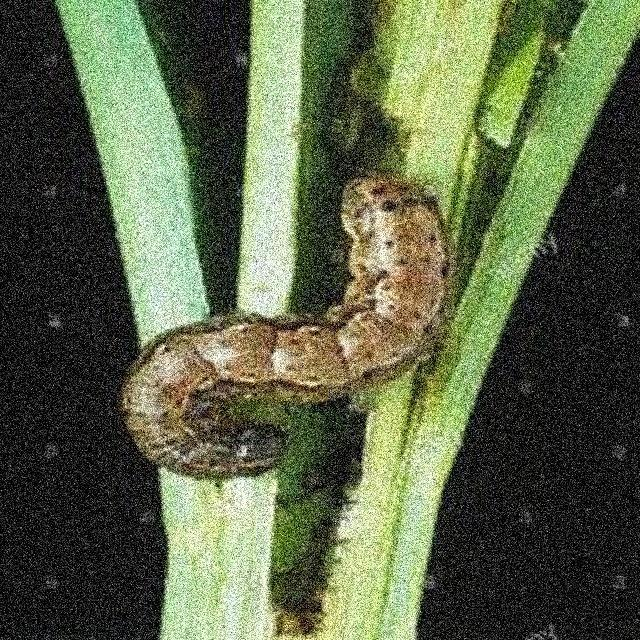Plaga: (115, 168, 455, 485)
